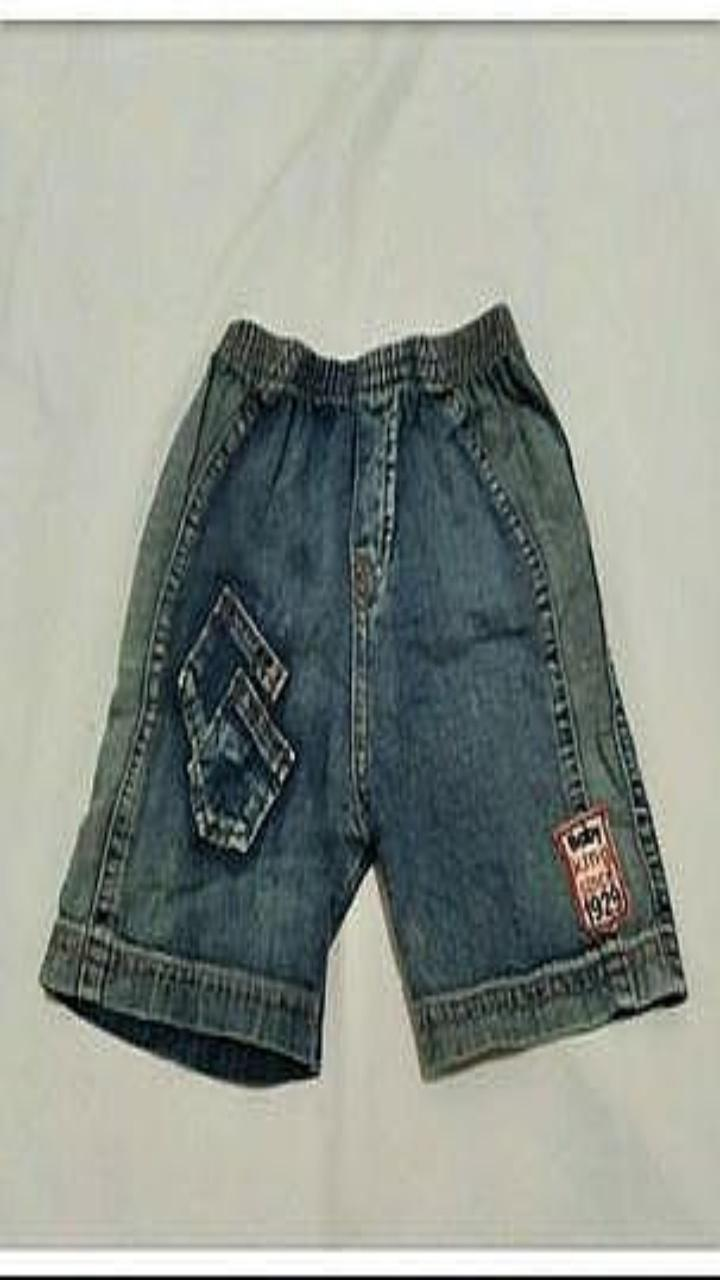Shorts: (40, 303, 685, 1083)
